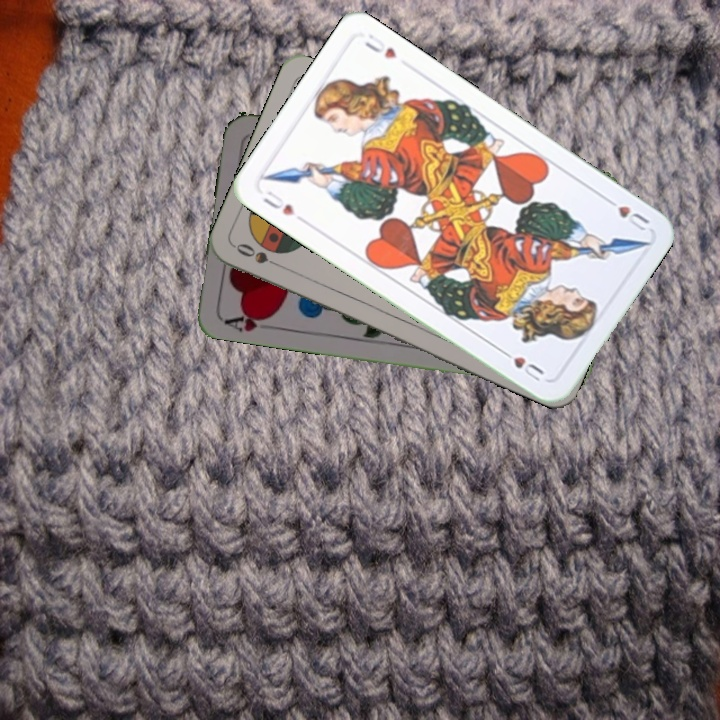HA: (220, 307, 275, 334)
HU: (600, 193, 652, 234), (259, 186, 307, 225)
SO: (231, 239, 288, 272)
